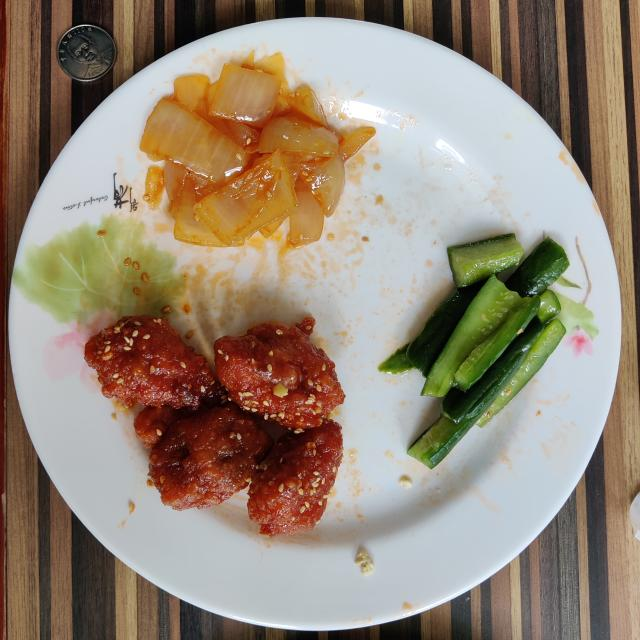coin: (58, 25, 116, 81)
cucumber: (380, 234, 569, 468)
